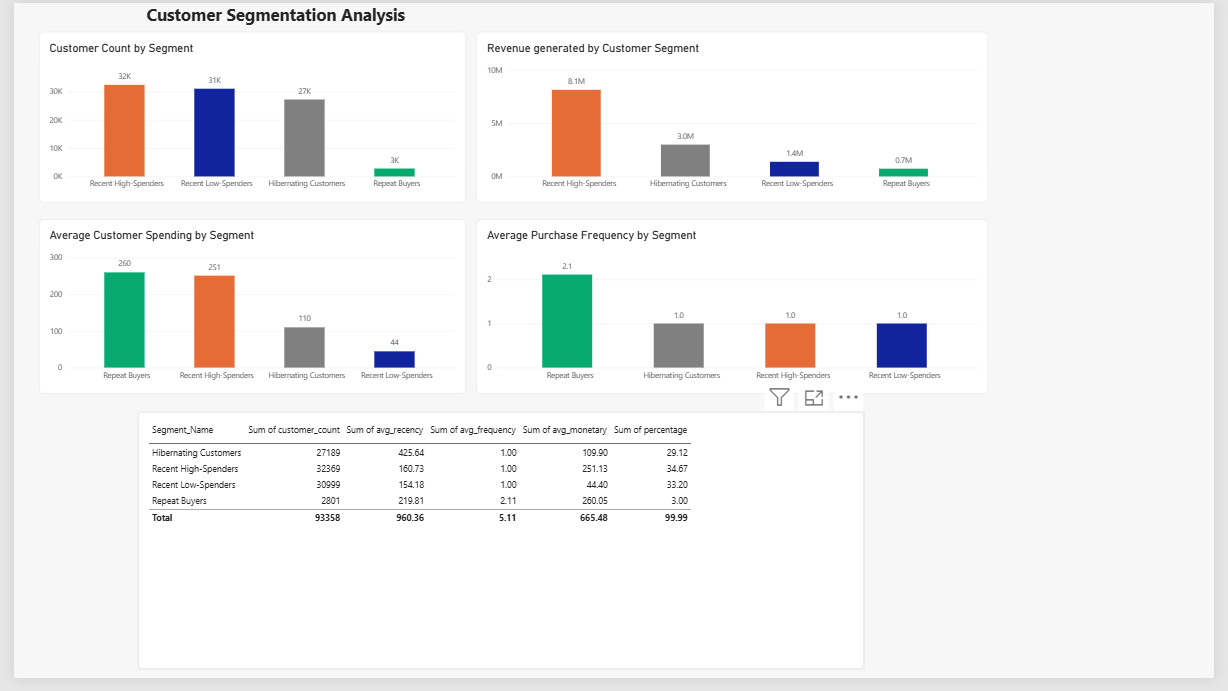

The dashboard page shown, as its layout file describes it:
{"tool":"powerbi","page":{"name":"Customer Segmentation","canvas":[1920,1080],"ordinal":1},"visuals":[{"type":"textbox","box":[10,0,817.5,45],"z":0},{"type":"clusteredColumnChart","title":"Customer Count by Segment","fields":{"Category":["olist_customer_segments.cluster_name"],"Y":["olist_customer_segments.Customer_Count"]},"box":[39.2,45,683.3,273.3],"z":1},{"type":"clusteredColumnChart","title":"Revenue generated by Customer Segment","fields":{"Category":["olist_segment_revenue_summary.cluster_name"],"Y":["Sum(olist_segment_revenue_summary.total_revenue)"]},"box":[740,45,818.3,273.3],"z":2},{"type":"clusteredColumnChart","title":"Average Customer Spending by Segment","fields":{"Category":["olist_cluster_profiles.Segment_Name"],"Y":["Sum(olist_cluster_profiles.avg_monetary)"]},"box":[39.2,346.7,683.3,279.2],"z":3},{"type":"clusteredColumnChart","title":"Average Purchase Frequency by Segment","fields":{"Category":["olist_cluster_profiles.Segment_Name"],"Y":["Sum(olist_cluster_profiles.avg_frequency)"]},"box":[740,346.7,818.3,279.2],"z":4},{"type":"tableEx","fields":{"Values":["olist_cluster_profiles.Segment_Name","Sum(olist_cluster_profiles.customer_count)","Sum(olist_cluster_profiles.avg_recency)","Sum(olist_cluster_profiles.avg_frequency)","Sum(olist_cluster_profiles.avg_monetary)","Sum(olist_cluster_profiles.percentage)"]},"box":[197.5,654.2,1161.7,410.8],"z":5}]}

Visuals, with their boxes in screenshot pixels (x1, y1, x2, y2), scaled from the page's 1920x1080 canvas onto the 1228x691 screenshot:
textbox: <box>6,0,529,29</box>
"Customer Count by Segment" clusteredColumnChart: <box>25,29,462,204</box>
"Revenue generated by Customer Segment" clusteredColumnChart: <box>473,29,997,204</box>
"Average Customer Spending by Segment" clusteredColumnChart: <box>25,222,462,400</box>
"Average Purchase Frequency by Segment" clusteredColumnChart: <box>473,222,997,400</box>
tableEx - olist_cluster_profiles.Segment_Name x Sum(olist_cluster_profiles.customer_count): <box>126,419,869,681</box>
